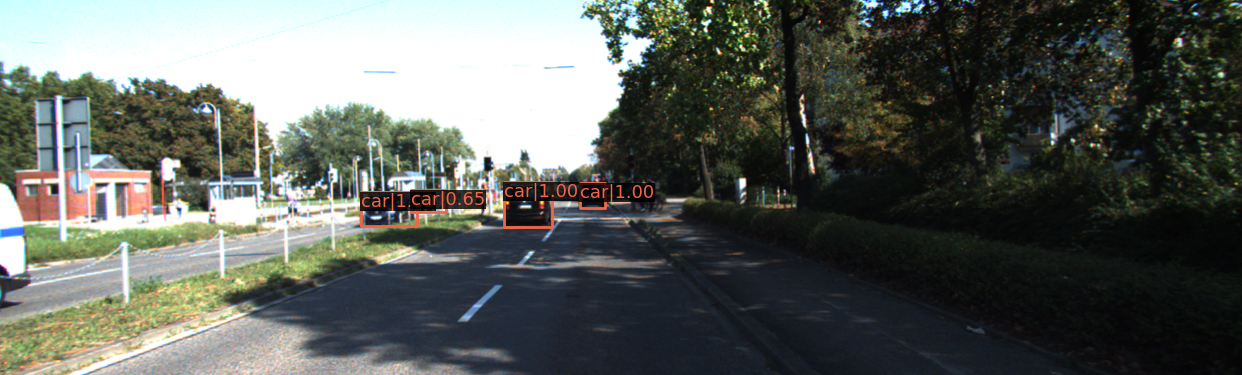car: (361, 193, 419, 228), (505, 185, 553, 227), (580, 183, 607, 210)
